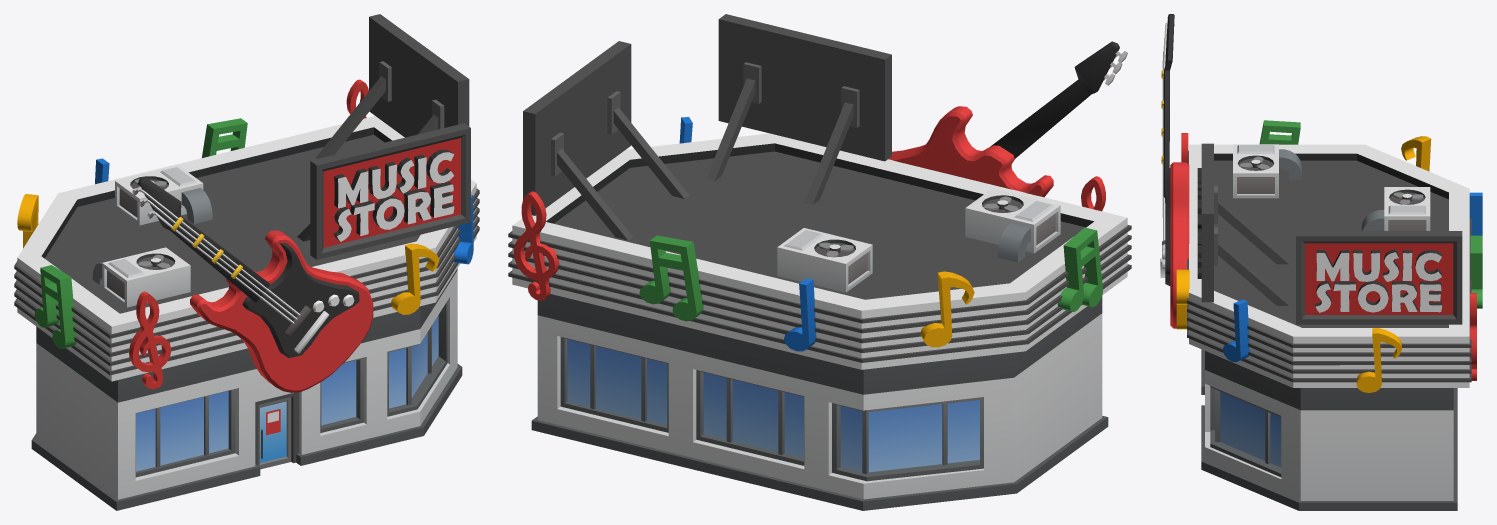
Rendered from music_store_001.glb.
The picture shows the model from 3 angles, left to right: view 1: azimuth 30°, elevation 25°; view 2: azimuth 150°, elevation 25°; view 3: azimuth 270°, elevation 25°; orthographic projection. The views are drawn at different scales.
Parts seen in each view (by area): view 1: music_store_001; view 2: music_store_001; view 3: music_store_001.
Part boxes in pixels (x1,y1,x2,y2): music_store_001: (14, 14, 479, 510); music_store_001: (508, 14, 1131, 510); music_store_001: (1160, 14, 1482, 510).
Bounding box in the file's own units: 15.34 × 11.25 × 10.28.
Materials: 2 (2 with a texture image).
